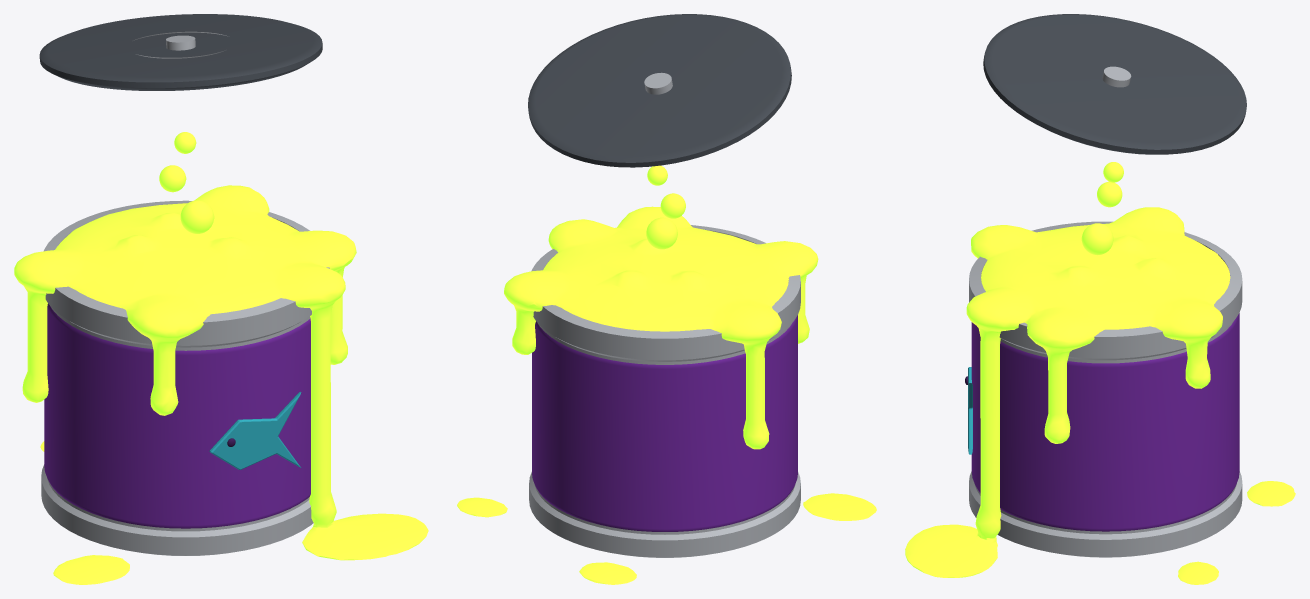
File: zc_toxic_can.mobile-high.glb
The picture shows the model from 3 angles, left to right: view 1: azimuth 30°, elevation 25°; view 2: azimuth 150°, elevation 25°; view 3: azimuth 270°, elevation 25°; orthographic projection. The views are drawn at different scales.
Visible parts, largest first — view 1: zc_toxic_can, blob1, zc_toxic_lid, Sphere, Sphere.001; view 2: zc_toxic_can, blob1, zc_toxic_lid, Sphere; view 3: zc_toxic_can, blob1, zc_toxic_lid, Sphere, Sphere.001.
Part boxes in pixels (box(x1,y1,x2,y2)): zc_toxic_can: box(41, 200, 329, 555); blob1: box(14, 185, 428, 584); zc_toxic_lid: box(39, 14, 322, 90); Sphere: box(180, 200, 214, 233); Sphere.001: box(159, 165, 186, 192); zc_toxic_can: box(529, 225, 800, 557); blob1: box(457, 206, 876, 584); zc_toxic_lid: box(528, 14, 791, 167); Sphere: box(646, 217, 677, 249); zc_toxic_can: box(965, 221, 1242, 557); blob1: box(905, 207, 1295, 584); zc_toxic_lid: box(983, 14, 1246, 154); Sphere: box(1081, 223, 1113, 255); Sphere.001: box(1097, 181, 1122, 207).
Size of the model in its own units: 0.9409 by 1.26 by 0.9776.
1 material, 1 textured.
